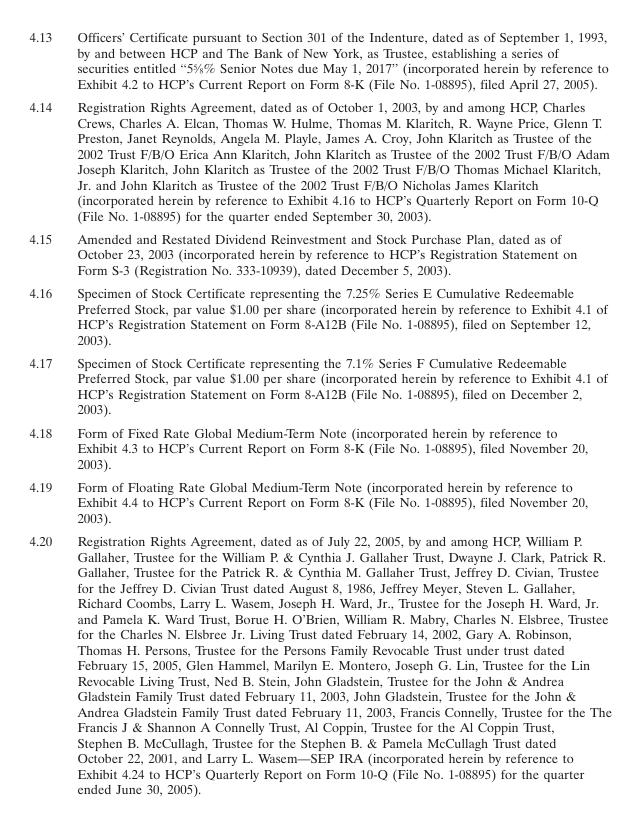table: (28, 28, 611, 796)
table column: (63, 28, 611, 796), (28, 28, 63, 796)
table row: (28, 529, 611, 796), (28, 94, 611, 226), (28, 280, 611, 350), (28, 350, 611, 420), (28, 28, 611, 94), (28, 474, 611, 529), (28, 226, 611, 280), (28, 420, 611, 474)
